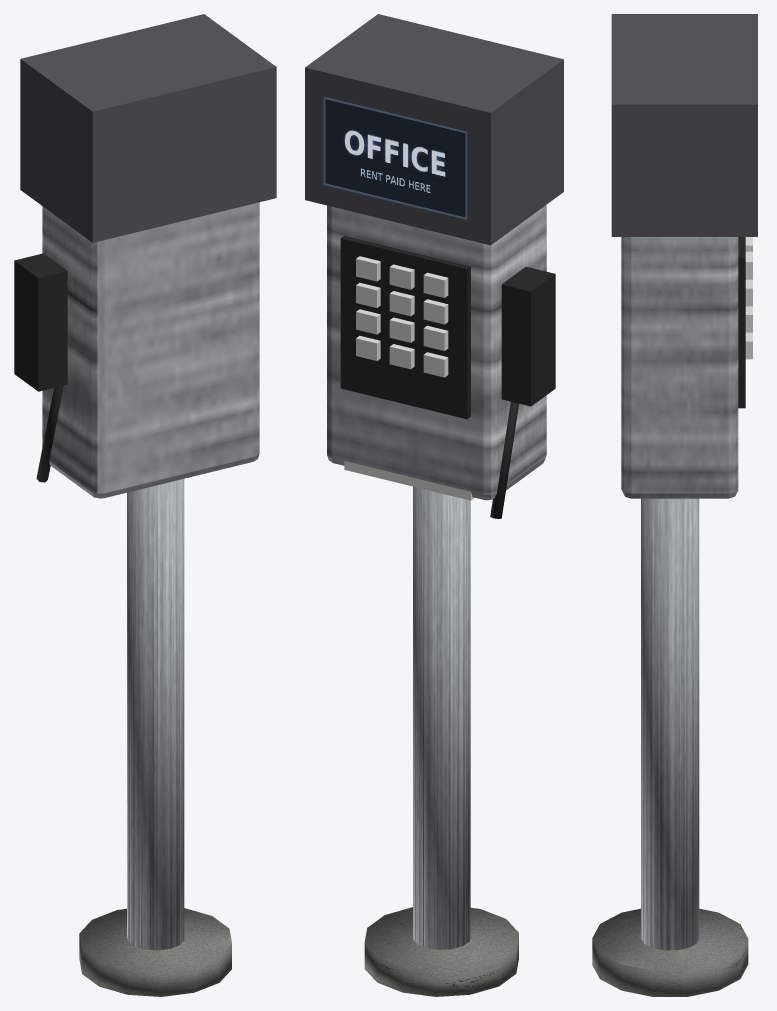
The model's file is WK_PRP_PayPhone.glb.
The picture shows the model from 3 angles, left to right: view 1: azimuth 30°, elevation 25°; view 2: azimuth 150°, elevation 25°; view 3: azimuth 270°, elevation 25°; orthographic projection.
Visible parts, largest first — view 1: WK_PRP_PayPhone_P03, WK_PRP_PayPhone_P04, WK_PRP_PayPhone_P01, WK_PRP_PayPhone_P02, WK_PRP_PayPhone_P19, WK_PRP_PayPhone_P20; view 2: WK_PRP_PayPhone_P04, WK_PRP_PayPhone_P03, WK_PRP_PayPhone_P01, WK_PRP_PayPhone_P06, WK_PRP_PayPhone_P05, WK_PRP_PayPhone_P02, WK_PRP_PayPhone_P19, WK_PRP_PayPhone_P21, WK_PRP_PayPhone_P20; view 3: WK_PRP_PayPhone_P04, WK_PRP_PayPhone_P03, WK_PRP_PayPhone_P01, WK_PRP_PayPhone_P02, WK_PRP_PayPhone_P06.
Part boxes in pixels (bbox=[...]): WK_PRP_PayPhone_P03: bbox=[42, 202, 259, 498]; WK_PRP_PayPhone_P04: bbox=[20, 14, 276, 242]; WK_PRP_PayPhone_P01: bbox=[127, 479, 184, 950]; WK_PRP_PayPhone_P02: bbox=[79, 908, 231, 996]; WK_PRP_PayPhone_P19: bbox=[14, 253, 67, 391]; WK_PRP_PayPhone_P20: bbox=[36, 385, 63, 482]; WK_PRP_PayPhone_P04: bbox=[305, 14, 563, 245]; WK_PRP_PayPhone_P03: bbox=[327, 205, 546, 500]; WK_PRP_PayPhone_P01: bbox=[413, 486, 470, 949]; WK_PRP_PayPhone_P06: bbox=[340, 235, 470, 419]; WK_PRP_PayPhone_P05: bbox=[323, 96, 467, 219]; WK_PRP_PayPhone_P02: bbox=[364, 907, 518, 996]; WK_PRP_PayPhone_P19: bbox=[501, 266, 555, 406]; WK_PRP_PayPhone_P21: bbox=[344, 420, 474, 500]; WK_PRP_PayPhone_P20: bbox=[490, 401, 518, 518]; WK_PRP_PayPhone_P04: bbox=[611, 14, 757, 236]; WK_PRP_PayPhone_P03: bbox=[621, 237, 738, 498]; WK_PRP_PayPhone_P01: bbox=[641, 498, 699, 950]; WK_PRP_PayPhone_P02: bbox=[592, 908, 748, 996]; WK_PRP_PayPhone_P06: bbox=[738, 237, 745, 408].
Bounding box in the file's own units: 0.495 × 2.05 × 0.35.
7 materials, 3 textured.
